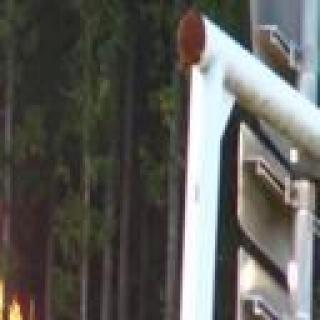fire: (0, 105, 32, 320)
